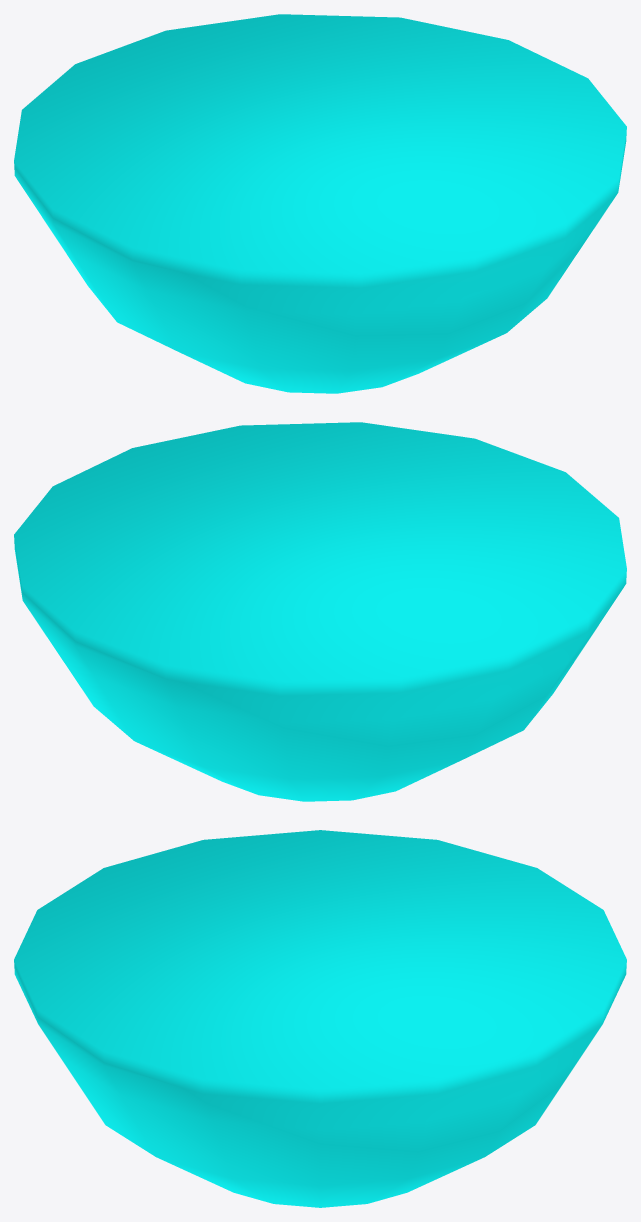
Rendered from WaterDrop_25.glb.
3 views of the same model, one above another, from view 1: azimuth 30°, elevation 25°; view 2: azimuth 150°, elevation 25°; view 3: azimuth 270°, elevation 25° (orthographic).
Parts seen in each view (by area): view 1: WaterDrop_25; view 2: WaterDrop_25; view 3: WaterDrop_25.
Part boxes in pixels (x1,y1,x2,y2): WaterDrop_25: (14,14,626,393); WaterDrop_25: (14,422,626,801); WaterDrop_25: (14,830,626,1207).
Bounding box in the file's own units: 0.5757 × 0.2185 × 0.5757.
1 material, 1 textured.
